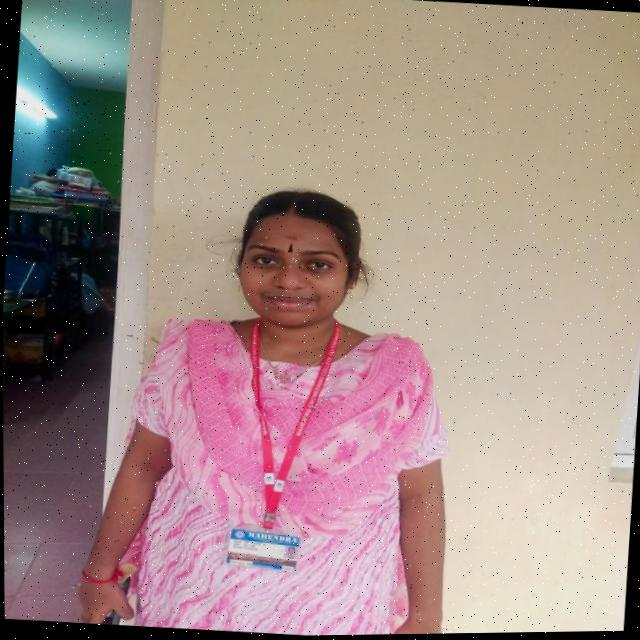id_card: (222, 322, 340, 585)
